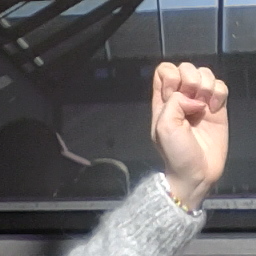E: (147, 60, 232, 182)
